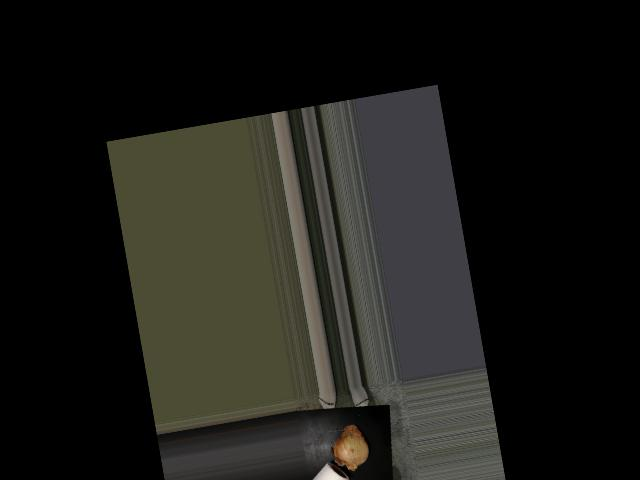onion: (332, 424, 373, 472)
